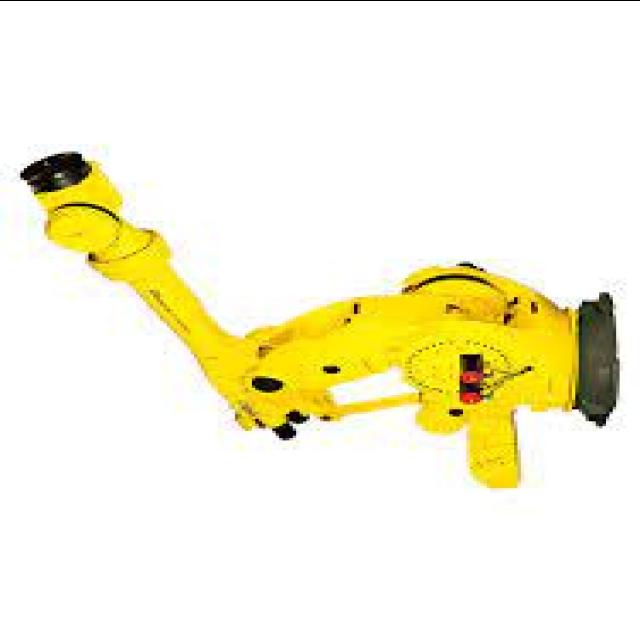Robotic-arm: (17, 146, 630, 492)
